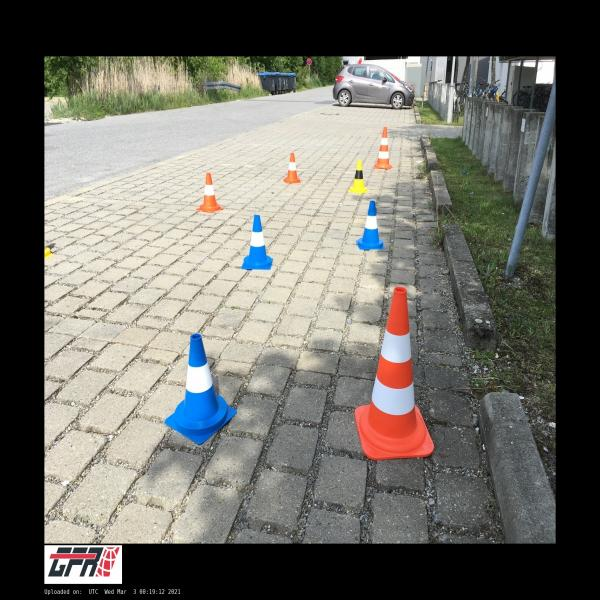blue_cone: (165, 334, 237, 444), (242, 214, 273, 270), (356, 201, 386, 250)
large_orange_cone: (355, 286, 434, 458), (373, 127, 392, 169)
orange_cone: (196, 173, 223, 213), (283, 152, 301, 183)
yellow_cone: (346, 160, 370, 194)
